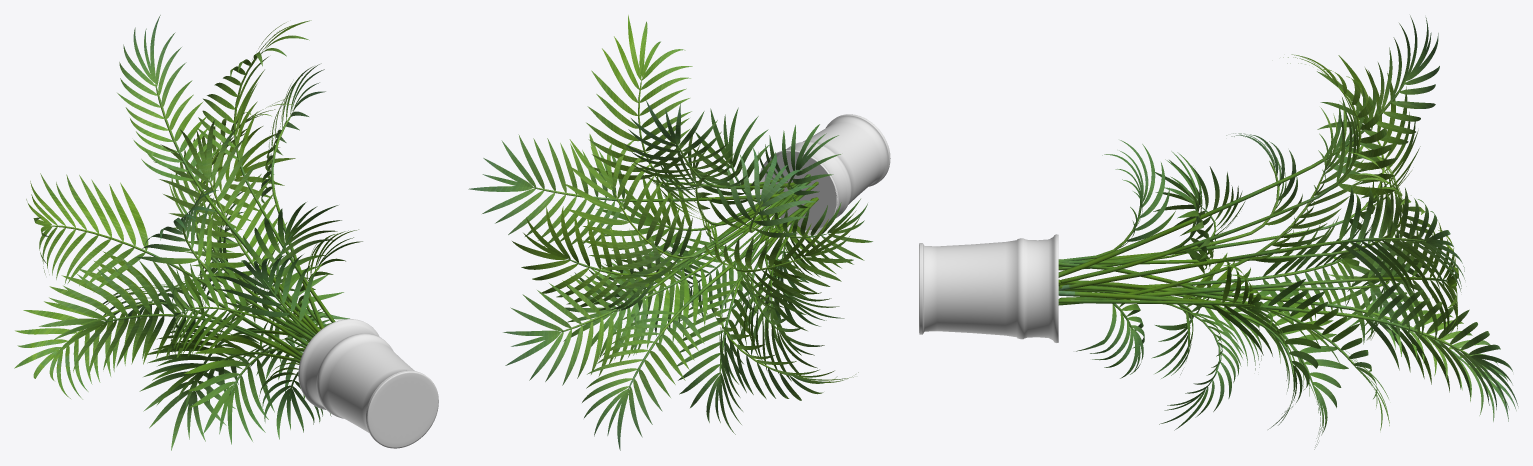
File: Bush.FBX
3 renders of one model, left to right at view 1: azimuth 30°, elevation 25°; view 2: azimuth 150°, elevation 25°; view 3: azimuth 270°, elevation 25°, orthographic. The views are drawn at different scales.
Parts seen in each view (by area): view 1: Blätter, Cylinder001, Blatt4, Blatt3, stile, Blatt, Blat5, Blatt1, Blatt2; view 2: Blätter, Blat5, Blatt2, Cylinder001, Blatt1, stile, Blatt4, Blatt3, Cylinder002, Blatt; view 3: Blätter, Cylinder001, stile, Blatt1, Blatt2, Blatt3, Blat5, Blatt4.
Boxes of the visible parts, <box> form: Blätter: <box>14,96,362,450</box>; Cylinder001: <box>298,319,438,448</box>; Blatt4: <box>26,173,308,346</box>; Blatt3: <box>117,15,320,332</box>; stile: <box>69,144,324,395</box>; Blatt: <box>15,251,159,388</box>; Blat5: <box>196,20,335,322</box>; Blatt1: <box>261,63,325,329</box>; Blatt2: <box>198,191,305,324</box>; Blätter: <box>512,107,872,450</box>; Blat5: <box>586,15,782,187</box>; Blatt2: <box>503,187,783,385</box>; Cylinder001: <box>760,114,890,235</box>; Blatt1: <box>468,134,798,247</box>; stile: <box>567,163,827,389</box>; Blatt4: <box>704,181,860,312</box>; Blatt3: <box>624,100,794,190</box>; Cylinder002: <box>764,152,836,230</box>; Blatt: <box>714,308,853,400</box>; Blätter: <box>1076,106,1516,449</box>; Cylinder001: <box>919,234,1058,342</box>; stile: <box>1058,161,1467,383</box>; Blatt1: <box>1058,186,1465,297</box>; Blatt2: <box>1058,282,1518,413</box>; Blatt3: <box>1058,15,1439,277</box>; Blat5: <box>1060,54,1397,283</box>; Blatt4: <box>1059,55,1420,260</box>.
Size of the model in its own units: 91.8 by 98.04 by 117.
1 material, 1 textured.
